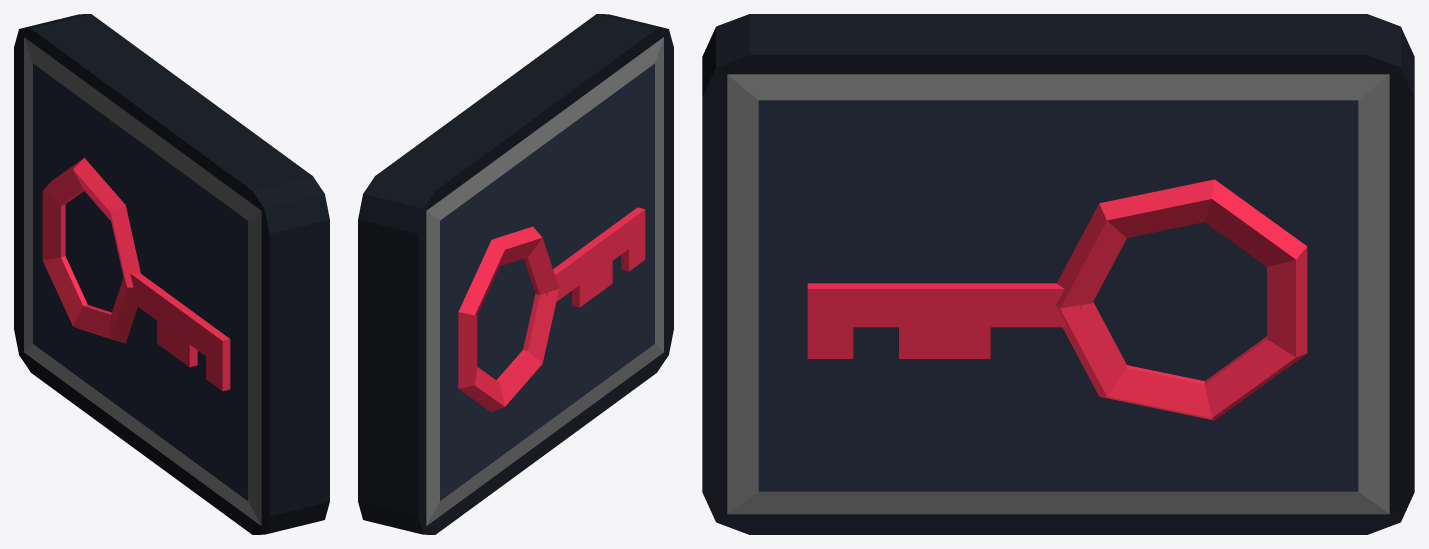
File: Key_card.fbx
3 views of the same model, side by side, from view 1: azimuth 30°, elevation 25°; view 2: azimuth 150°, elevation 25°; view 3: azimuth 270°, elevation 25° (orthographic). The views are drawn at different scales.
Visible parts, largest first — view 1: Cube; view 2: Cube; view 3: Cube.
Boxes of the visible parts, x1,y1,x2,y2 form: Cube: (14, 14, 329, 534); Cube: (358, 14, 673, 534); Cube: (702, 14, 1414, 534).
Bounding box in the file's own units: 11.01 × 41.06 × 55.24.
